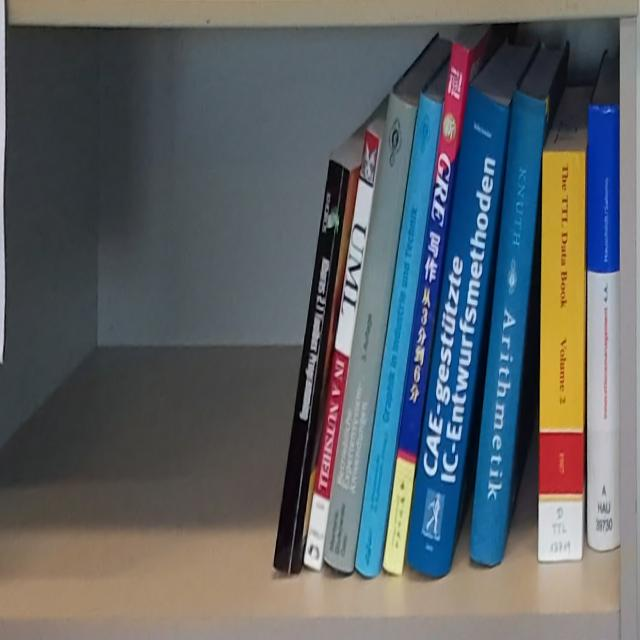Book Spine: (407, 86, 508, 580), (382, 40, 470, 577), (323, 89, 419, 574), (355, 87, 441, 577), (471, 89, 546, 567), (304, 128, 379, 570), (274, 157, 350, 574), (537, 152, 586, 562), (587, 103, 621, 553)
